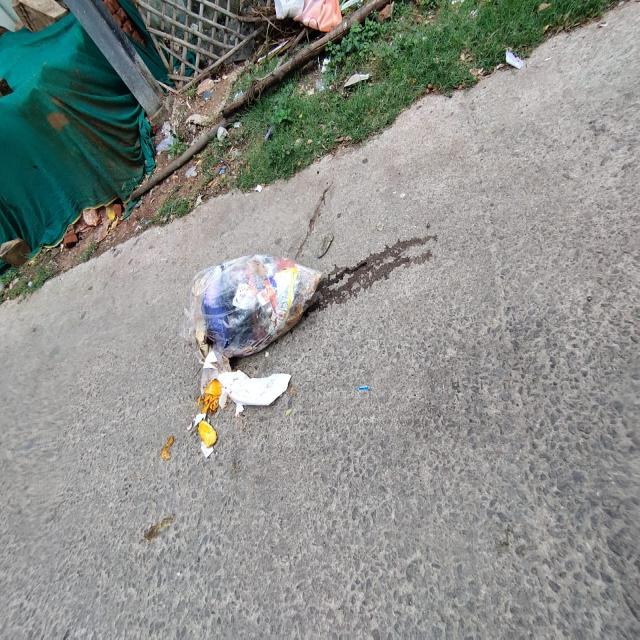plastic: (183, 250, 324, 368)
